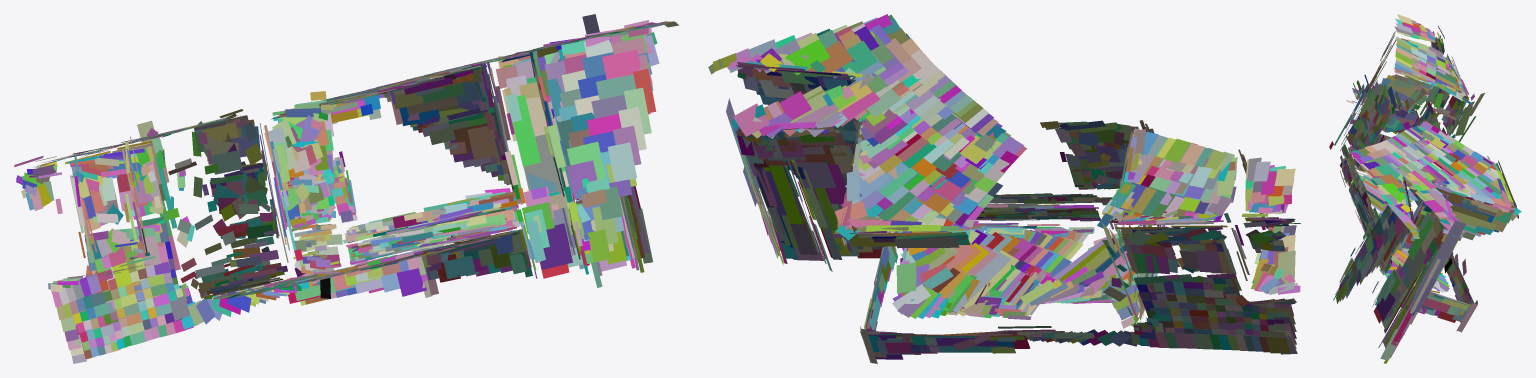
File: planarSplat_rawPrims_normalized_colorPrim.glb
3 renders of one model, left to right at view 1: azimuth 30°, elevation 25°; view 2: azimuth 150°, elevation 25°; view 3: azimuth 270°, elevation 25°, orthographic. The views are drawn at different scales.
Visible parts, largest first — view 1: planarSplat_rawPrims_normalized_colorPrim.ply; view 2: planarSplat_rawPrims_normalized_colorPrim.ply; view 3: planarSplat_rawPrims_normalized_colorPrim.ply.
Part boxes in pixels (x1=…): planarSplat_rawPrims_normalized_colorPrim.ply: x1=14, y1=14, x2=678, y2=363; planarSplat_rawPrims_normalized_colorPrim.ply: x1=708, y1=14, x2=1300, y2=363; planarSplat_rawPrims_normalized_colorPrim.ply: x1=1329, y1=14, x2=1521, y2=363.
Bounding box in the file's own units: 4.63 × 2.07 × 1.79.
